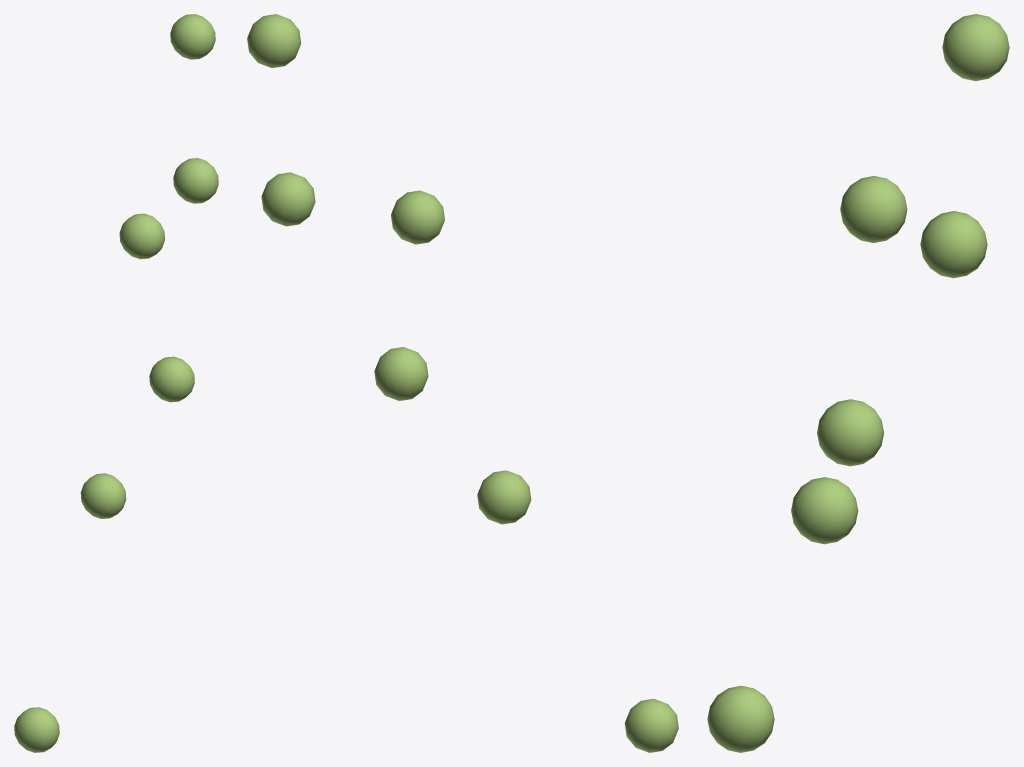
Rendered from cubital-nodes-r.glb.
3 views of the same model, side by side, from view 1: azimuth 30°, elevation 25°; view 2: azimuth 150°, elevation 25°; view 3: azimuth 270°, elevation 25° (orthographic). The views are drawn at different scales.
Visible parts, largest first — view 1: Cubital nodes.r; view 2: Cubital nodes.r; view 3: Cubital nodes.r.
Part boxes in pixels (box(x1,y1,x2,y2)): Cubital nodes.r: box(14, 14, 218, 752); Cubital nodes.r: box(247, 14, 678, 752); Cubital nodes.r: box(707, 14, 1009, 752).
Size of the model in its own units: 0.0179 by 0.0384 by 0.0117.
